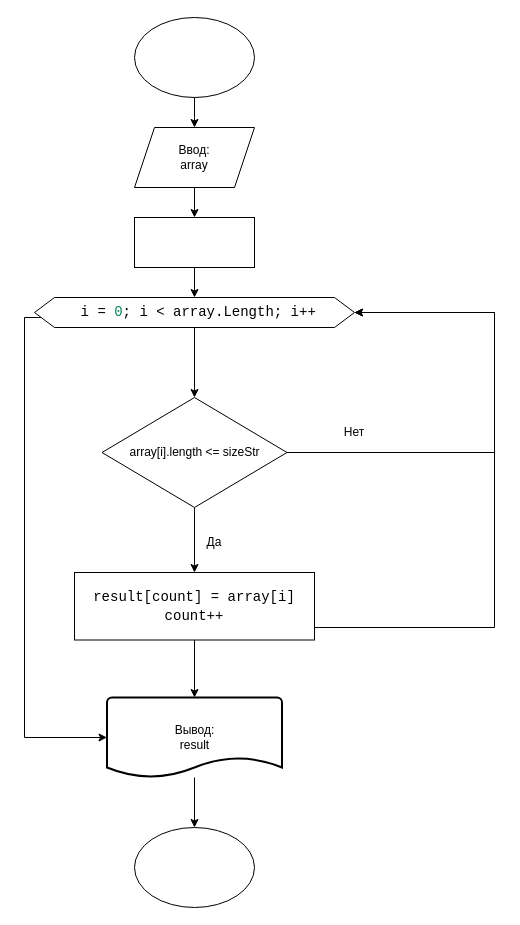
Image size: 520x925. Some labels were removed from this diagram. The centre of each missing label's shape, as x and y in pixels:
sizeStr = 3 count = 0 result: point 194,242
Конец: point 194,867
Начало: point 194,57
